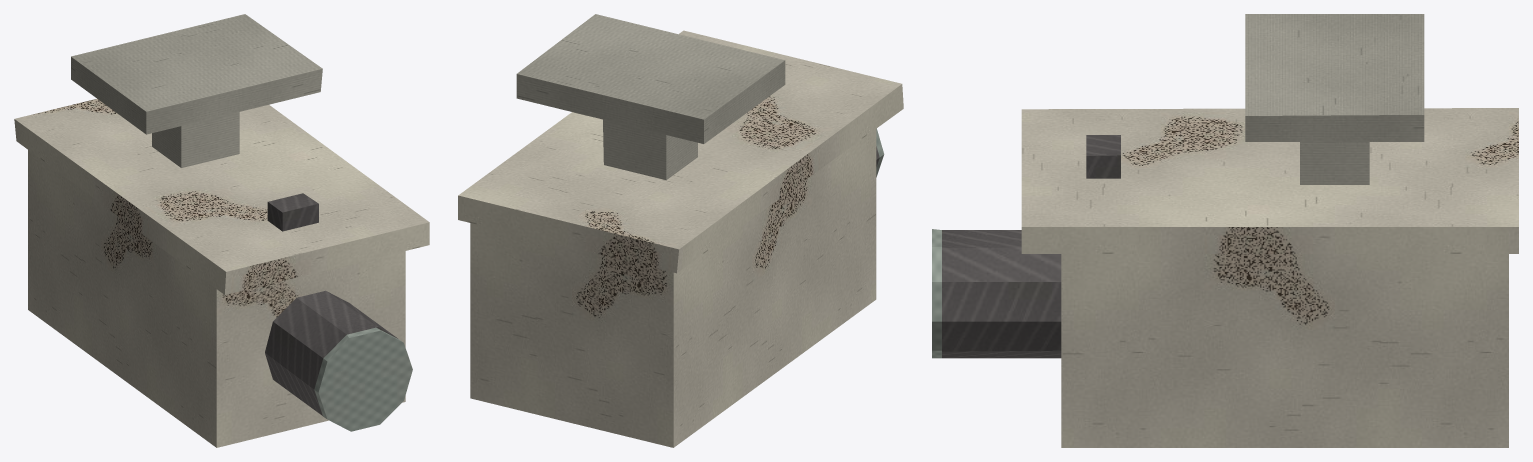
File: camera2_v2.glb
3 renders of one model, left to right at view 1: azimuth 30°, elevation 25°; view 2: azimuth 150°, elevation 25°; view 3: azimuth 270°, elevation 25°, orthographic. The views are drawn at different scales.
Visible parts, largest first — view 1: Variant_camera2_2; view 2: Variant_camera2_2; view 3: Variant_camera2_2.
Boxes of the visible parts, x1,y1,x2,y2 form: Variant_camera2_2: [14, 14, 429, 447]; Variant_camera2_2: [458, 14, 903, 447]; Variant_camera2_2: [932, 14, 1518, 447].
Bounding box in the file's own units: 0.1132 × 0.146 × 0.236.
Materials: 4 (4 with a texture image).
